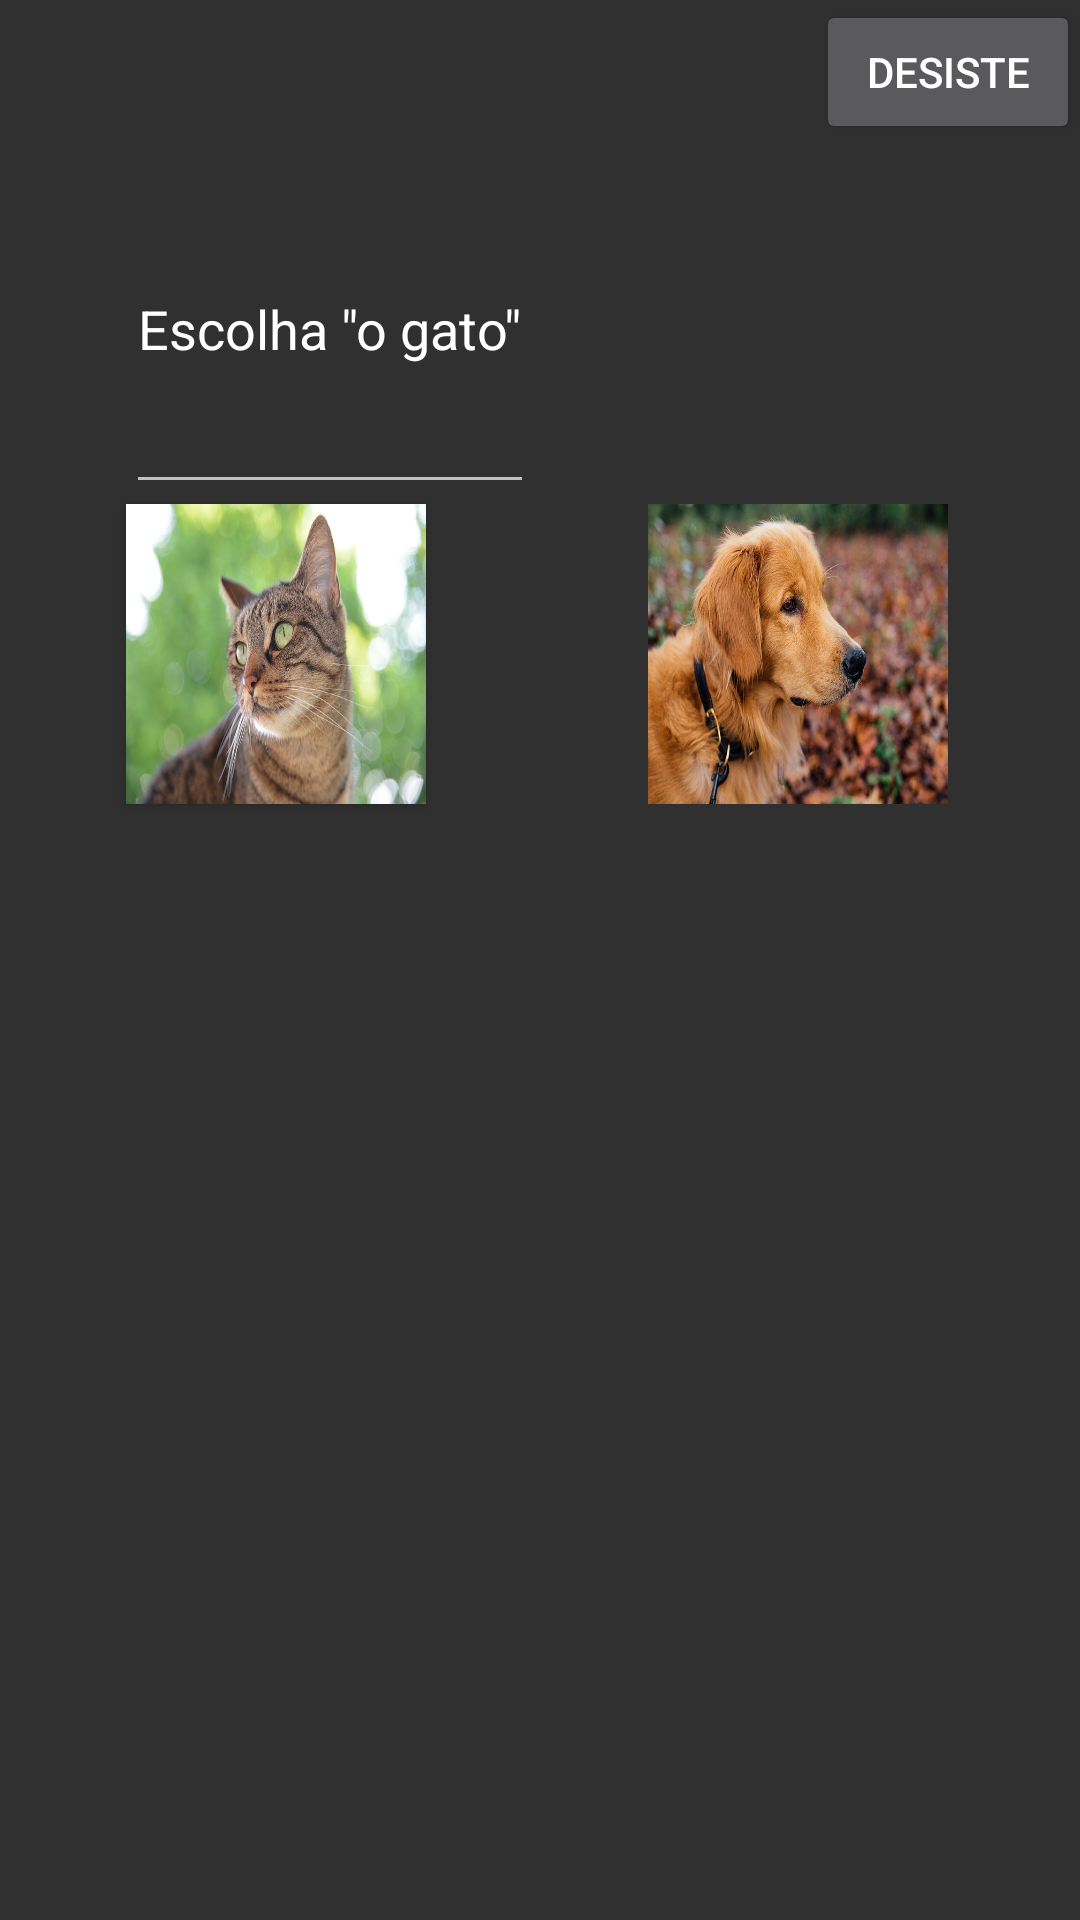

Locate icon controls on the screen. Image size 1080*1920, boxes as bbox=[x1, y1, x2, y2].
cachorro: bbox=[648, 504, 948, 804]
